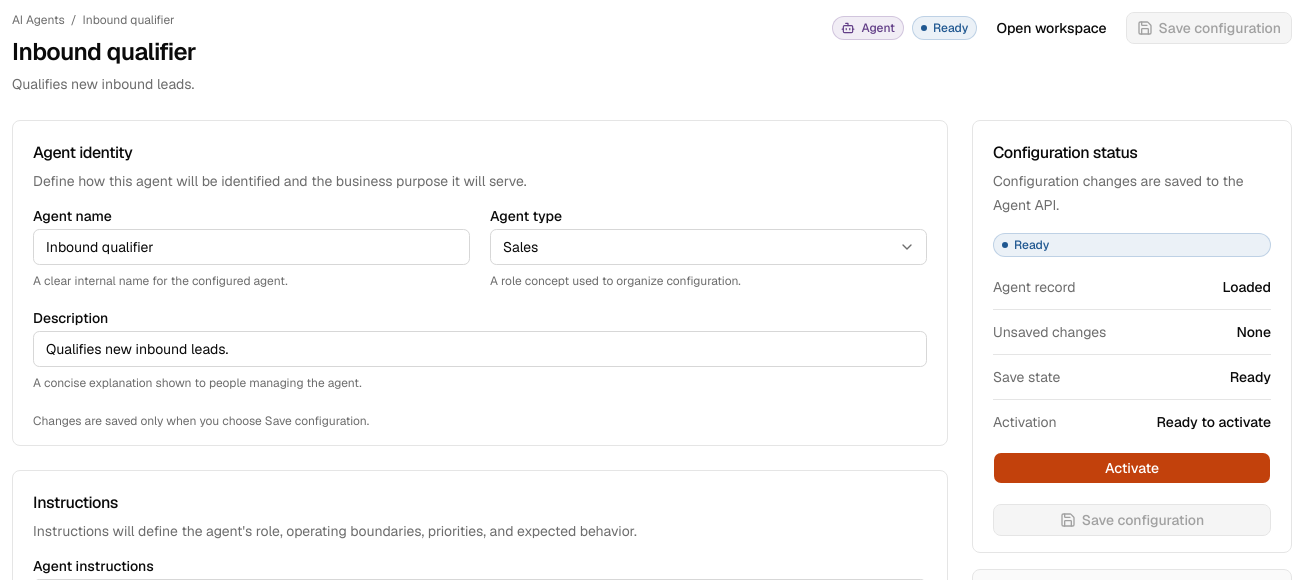
Test: Agent Detail page › shows a save error and preserves changes
Replace the text in the field labelled "Description" with "Changed description" at (480, 349), box x1=33 y1=331 x2=927 y2=367
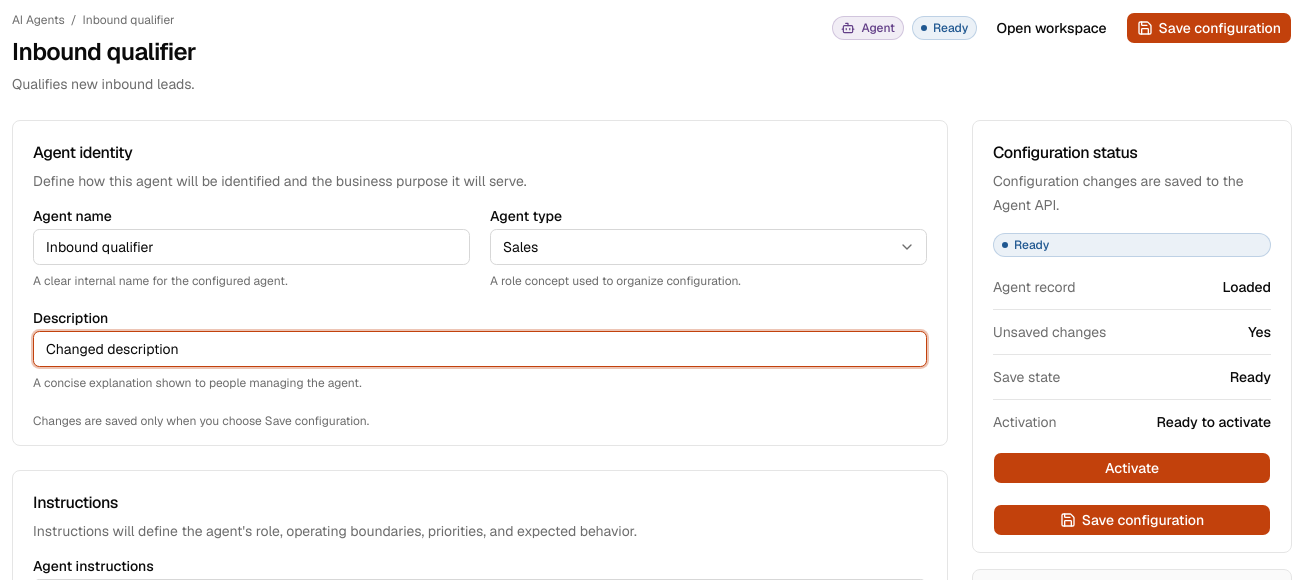
Click the button "Save configuration" next to "Open workspace".
click(1209, 28)  # box x1=1126 y1=12 x2=1292 y2=44
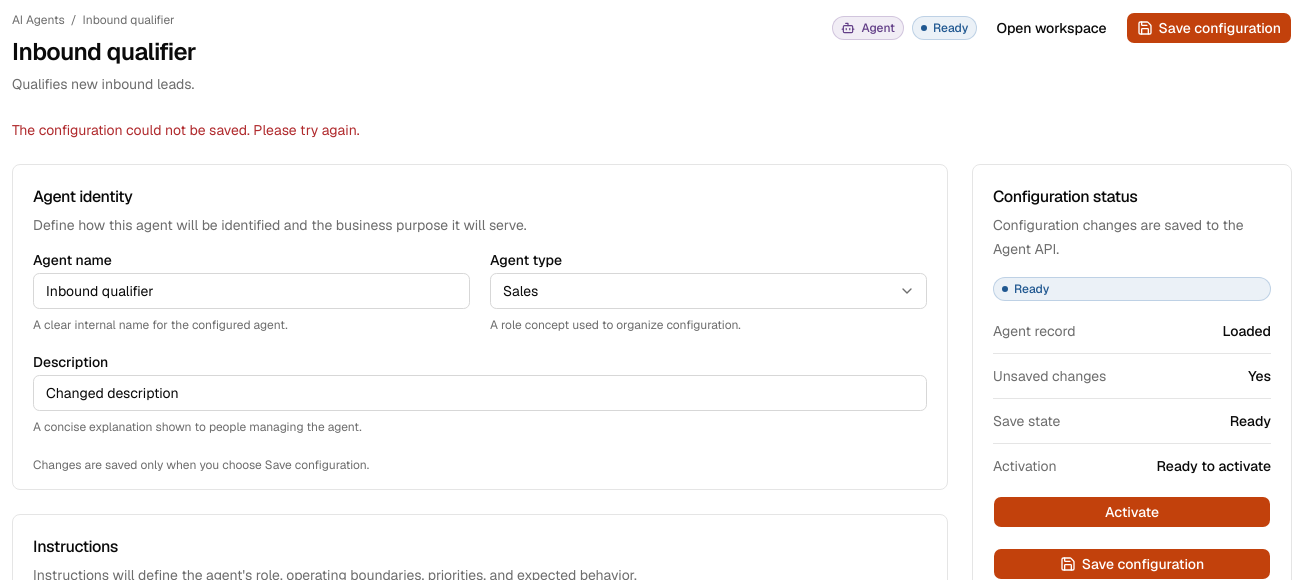
Expected: the message shows "The configuration could not be saved", x1=12 y1=121 x2=360 y2=139
